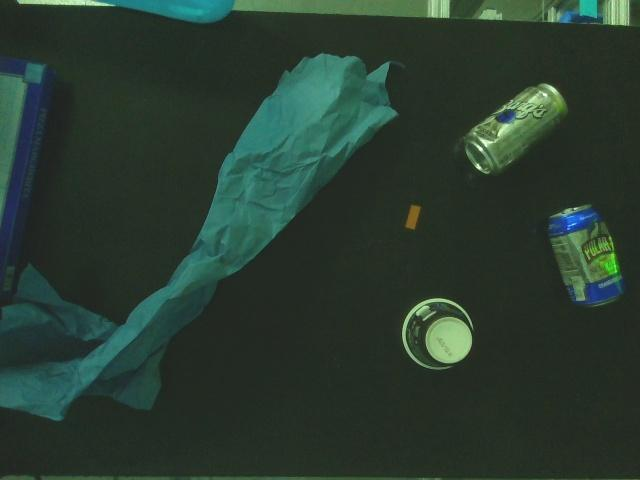cardboard: (0, 51, 54, 322)
metal: (462, 79, 572, 178), (546, 200, 628, 312)
paper: (0, 50, 412, 420)
plastic: (402, 295, 477, 373)
